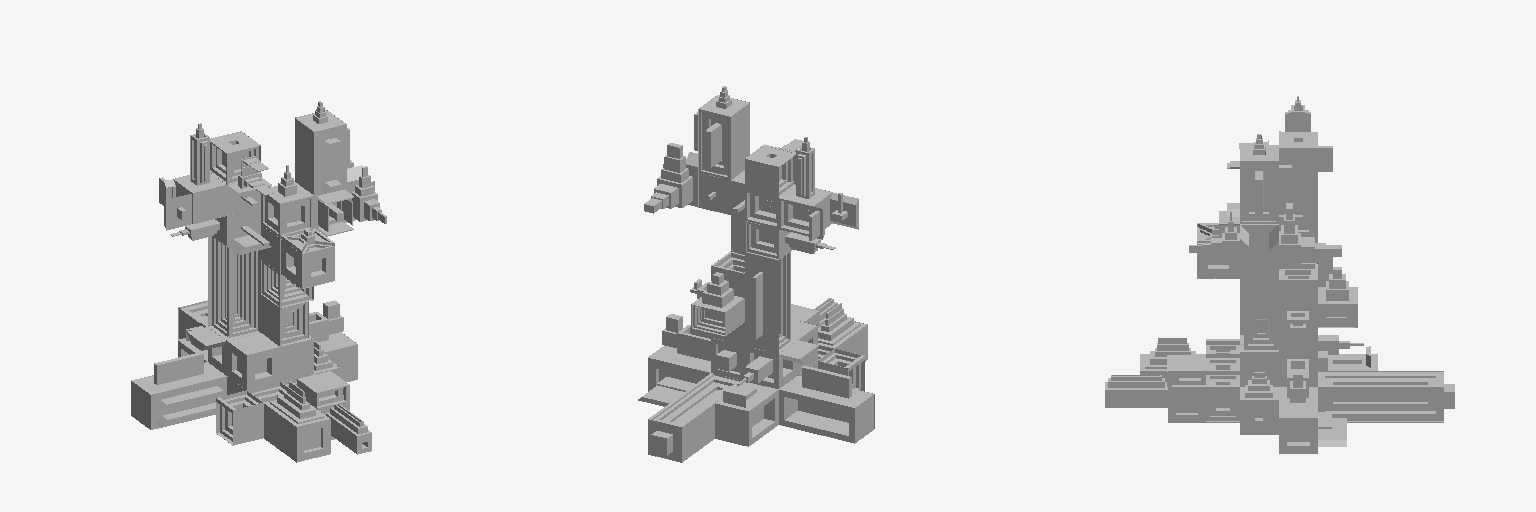
Rendered from City3.obj.
The picture shows the model from 3 angles: view 1: azimuth 30°, elevation 25°; view 2: azimuth 150°, elevation 25°; view 3: azimuth 270°, elevation 25°; orthographic projection.
Parts seen in each view (by area): view 1: city_3dprint_3; view 2: city_3dprint_3; view 3: city_3dprint_3.
Part boxes in pixels (x1,y1,x2,y2): city_3dprint_3: (131, 101, 386, 462); city_3dprint_3: (638, 86, 874, 462); city_3dprint_3: (1105, 96, 1454, 453).
Bounding box in the file's own units: 1111 × 1483 × 1591.